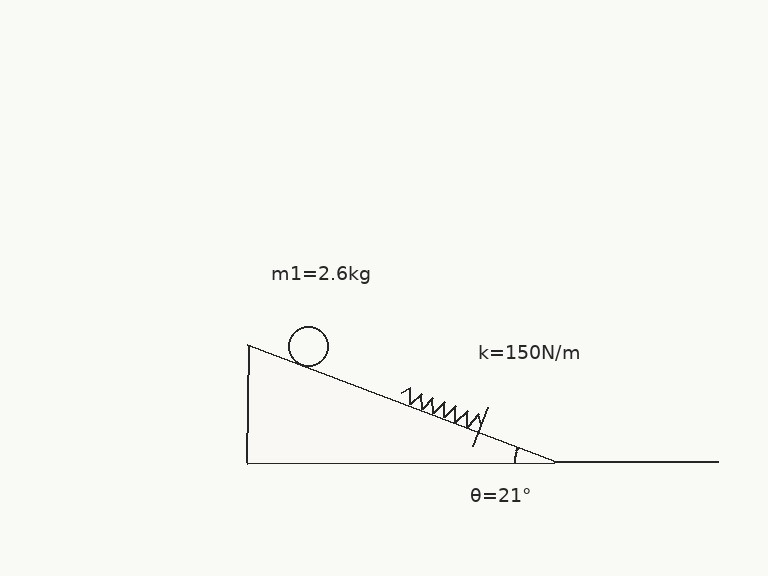ball: (286, 324, 330, 368)
ramp: (245, 342, 557, 464)
spring: (399, 387, 483, 428)
